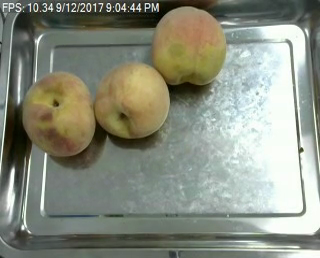Peach: (22, 69, 98, 156), (93, 60, 169, 139), (153, 7, 226, 85)
